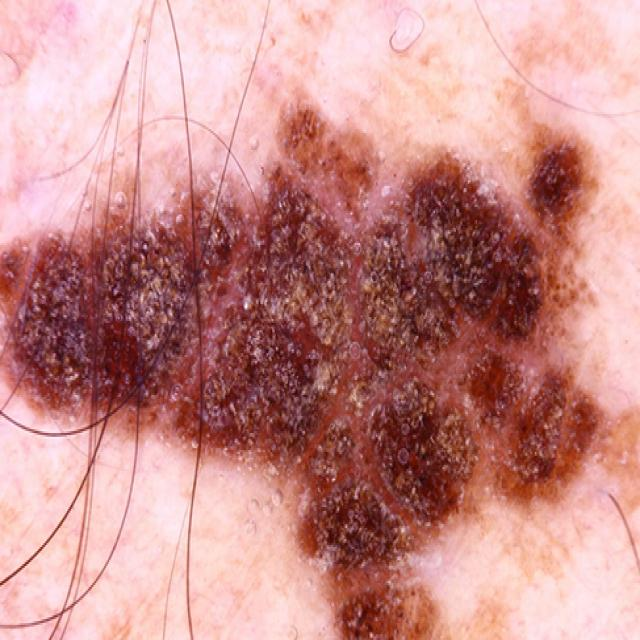Keratosis: (299, 207, 565, 518), (0, 167, 264, 386), (267, 75, 398, 201), (526, 119, 626, 218)
